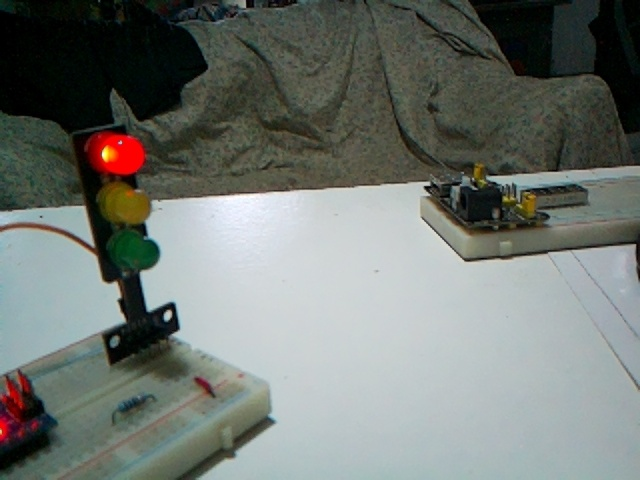traffic_light_red: (72, 122, 180, 363)
